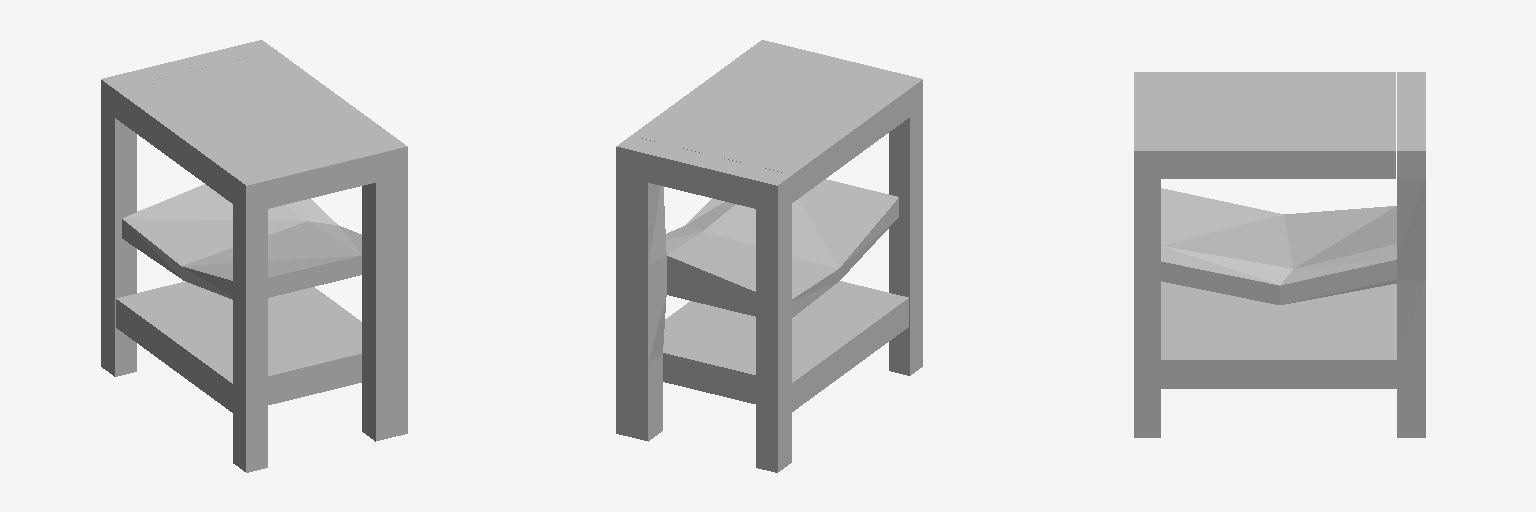
File: shelf.obj
The picture shows the model from 3 angles: view 1: azimuth 30°, elevation 25°; view 2: azimuth 150°, elevation 25°; view 3: azimuth 270°, elevation 25°; orthographic projection.
Visible parts, largest first — view 1: Cube; view 2: Cube; view 3: Cube.
Part boxes in pixels (bbox=[...]): Cube: bbox=[101, 40, 407, 472]; Cube: bbox=[616, 40, 922, 472]; Cube: bbox=[1134, 72, 1425, 437].
Size of the model in its own units: 1.31 by 2.17 by 2.